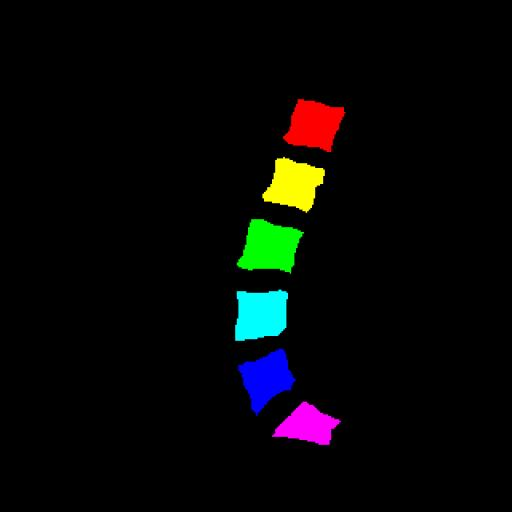L1: (284, 99, 345, 152)
L2: (262, 158, 325, 212)
L3: (237, 219, 303, 272)
L4: (235, 290, 288, 341)
L5: (239, 349, 295, 414)
S1: (273, 402, 340, 445)
